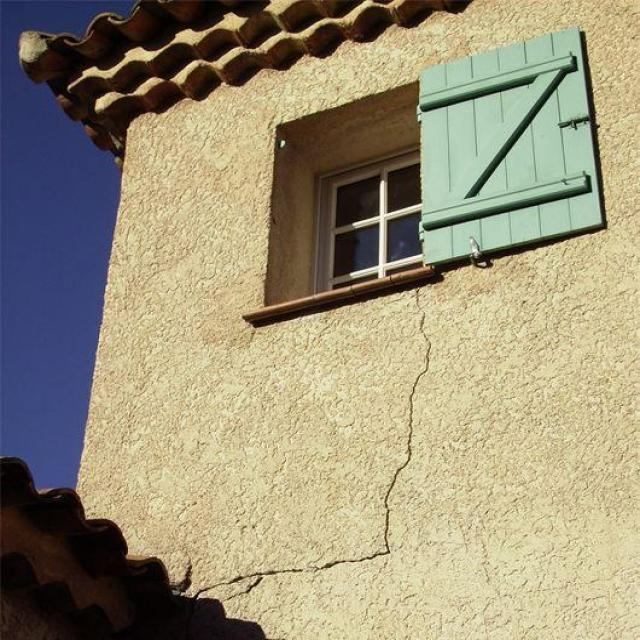crack: (192, 288, 435, 598)
